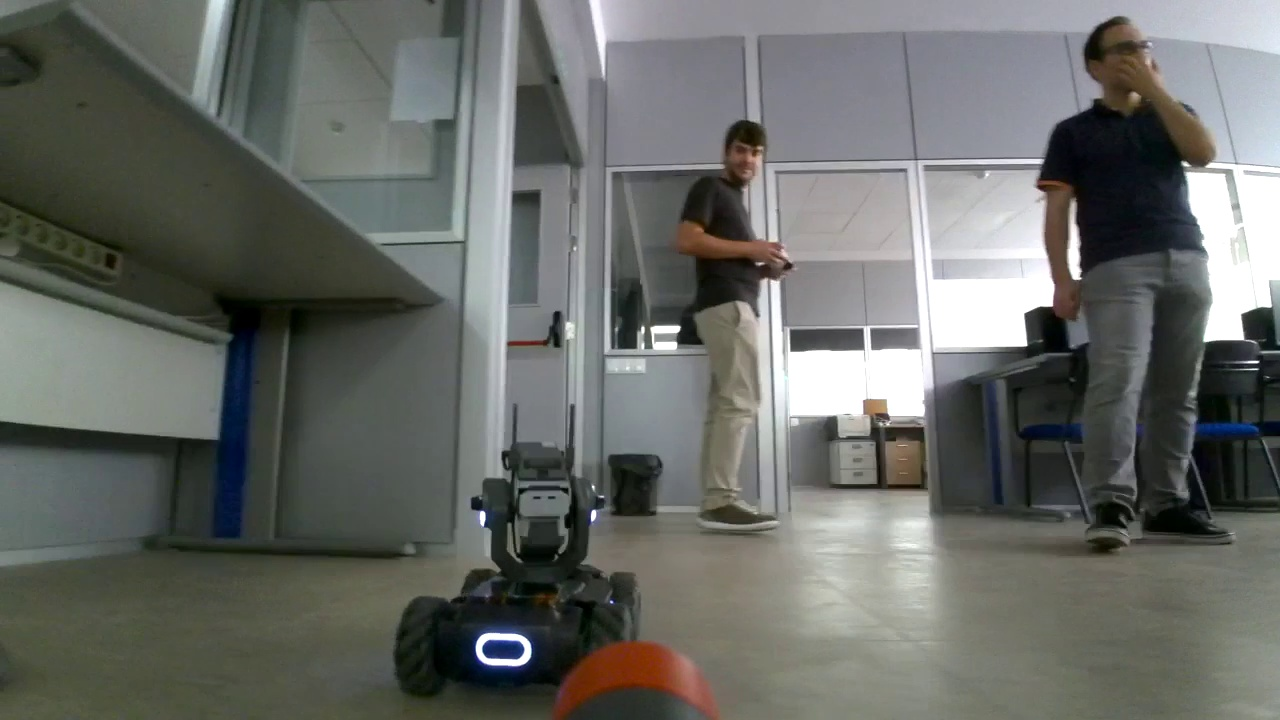robot: (389, 402, 644, 696)
